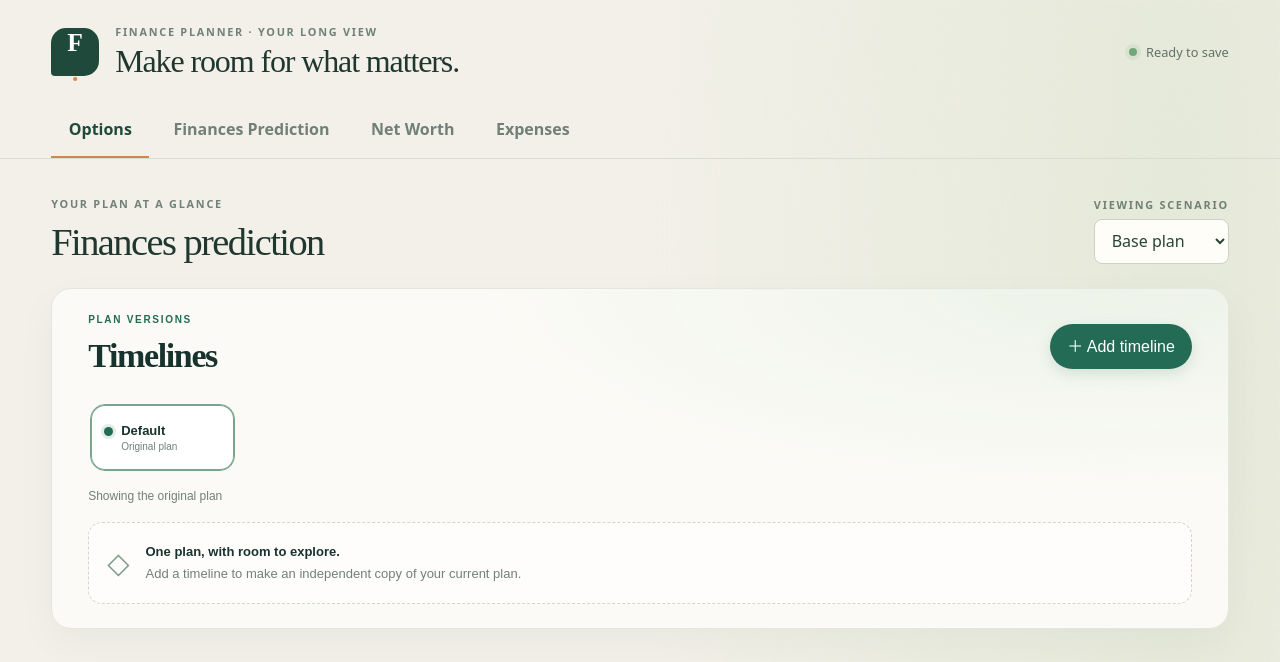
Test: App integration (Phase 5 GUI acceptance) › keeps an orphaned global funding reference visible without redirecting it
Click the button "Net Worth" at (413, 131), box top-left (354, 104), bottom-right (472, 158)
(page scrolled)
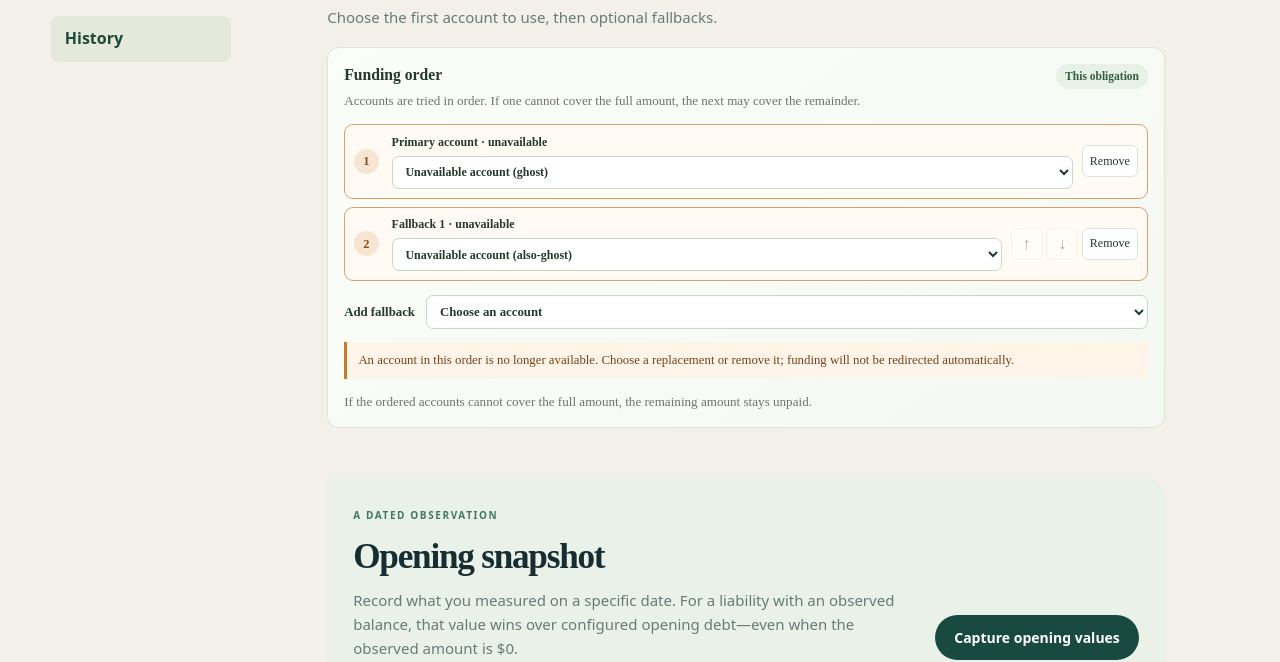
Expected: the dropdown labelled "Primary account" shows "Unavailable account (ghost)", top-left (392, 156), bottom-right (1073, 189)
Expected: the text "will not be redirected automatically" is shown, top-left (358, 353), bottom-right (1014, 367)
